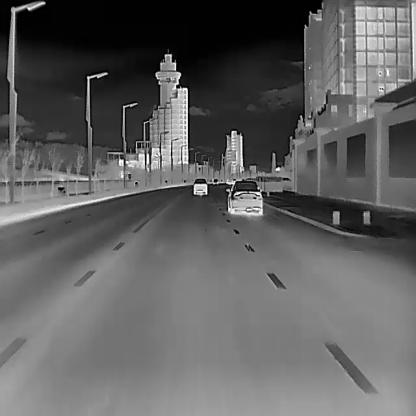car: (226, 180, 262, 216), (192, 176, 206, 195)
